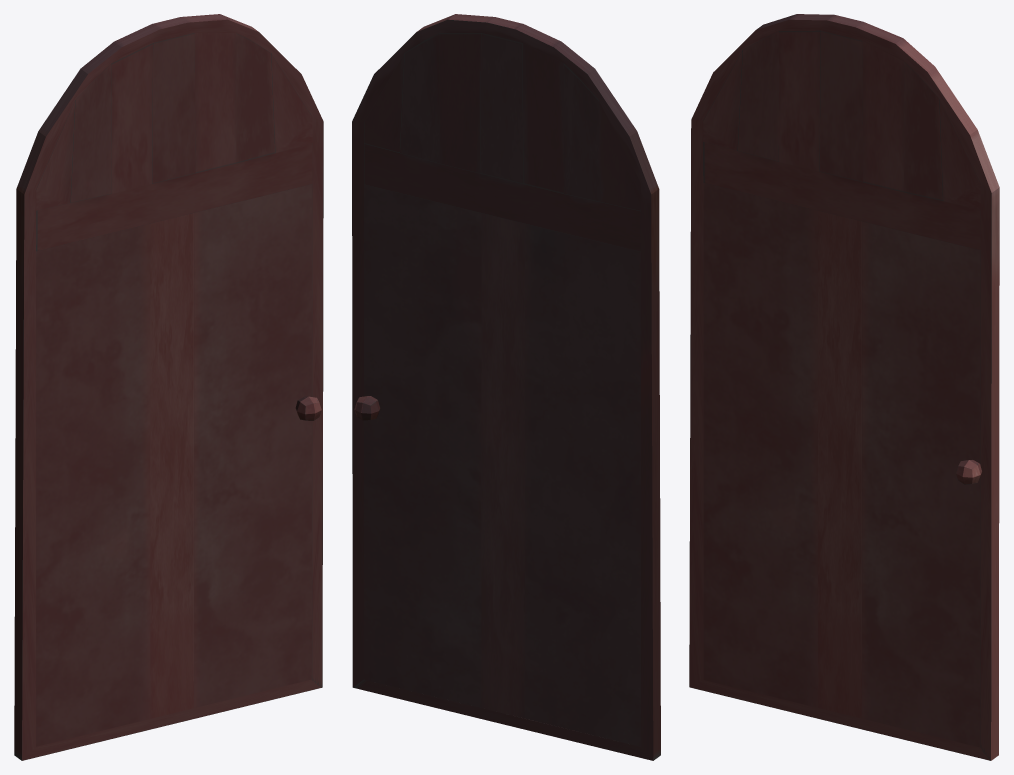
File: Porta_de_saida 1.fbx
3 views of the same model, side by side, from view 1: azimuth 30°, elevation 25°; view 2: azimuth 150°, elevation 25°; view 3: azimuth 330°, elevation 25° (orthographic).
Visible parts, largest first — view 1: porta central, Porta de saida, maçanetas; view 2: porta central, Porta de saida, maçanetas; view 3: porta central, Porta de saida, maçanetas.
Boxes of the visible parts, box(x1,y1,x2,y2) form: porta central: box(36, 184, 312, 746); Porta de saida: box(14, 14, 323, 760); maçanetas: box(295, 396, 321, 420); porta central: box(364, 184, 640, 746); Porta de saida: box(352, 14, 660, 760); maçanetas: box(354, 396, 380, 420); porta central: box(703, 183, 980, 747); Porta de saida: box(689, 14, 999, 760); maçanetas: box(956, 460, 981, 484).
Bounding box in the file's own units: 211 × 468 × 34.1.
3 materials, 3 textured.
